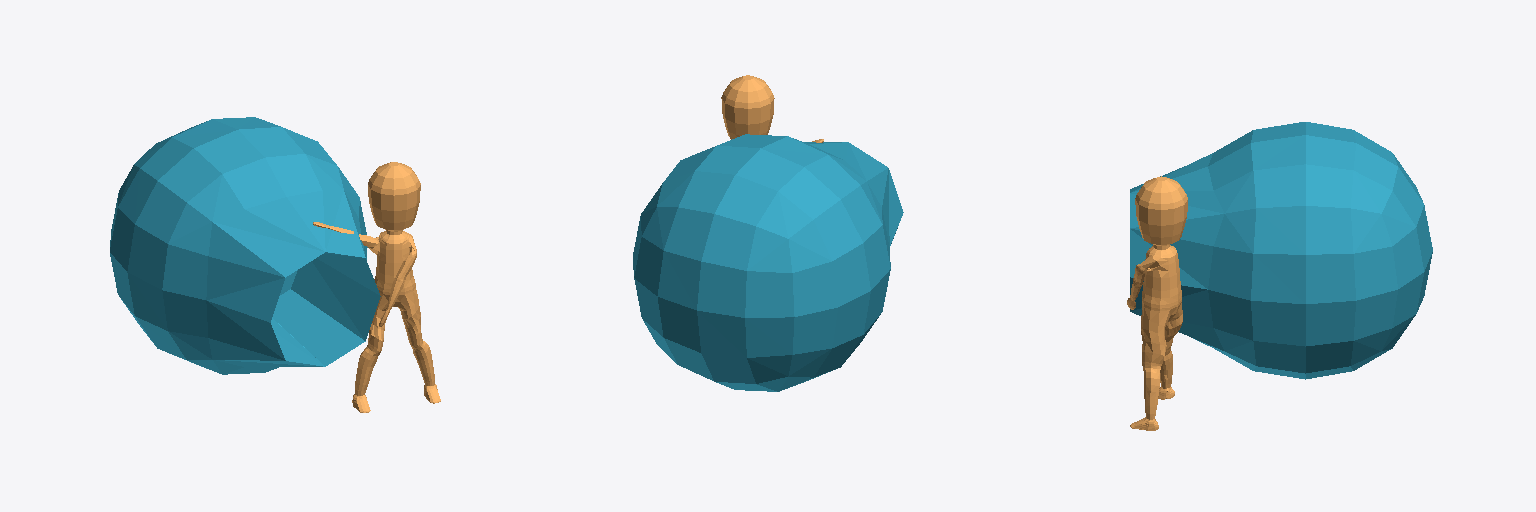
The picture shows the model from 3 angles: view 1: azimuth 30°, elevation 25°; view 2: azimuth 150°, elevation 25°; view 3: azimuth 270°, elevation 25°; orthographic projection.
Visible parts, largest first — view 1: 立方体.001, 胴_円.003; view 2: 立方体.001, 胴_円.003; view 3: 立方体.001, 胴_円.003.
Part boxes in pixels (left/top/right/bottom): 立方体.001: left=110, top=117, right=380, bottom=374; 胴_円.003: left=313, top=162, right=440, bottom=412; 立方体.001: left=633, top=134, right=903, bottom=391; 胴_円.003: left=721, top=75, right=823, bottom=142; 立方体.001: left=1130, top=122, right=1432, bottom=379; 胴_円.003: left=1127, top=176, right=1187, bottom=430.
Bounding box in the file's own units: 1.73 × 1.69 × 1.98.
Materials: 2 (2 with a texture image).